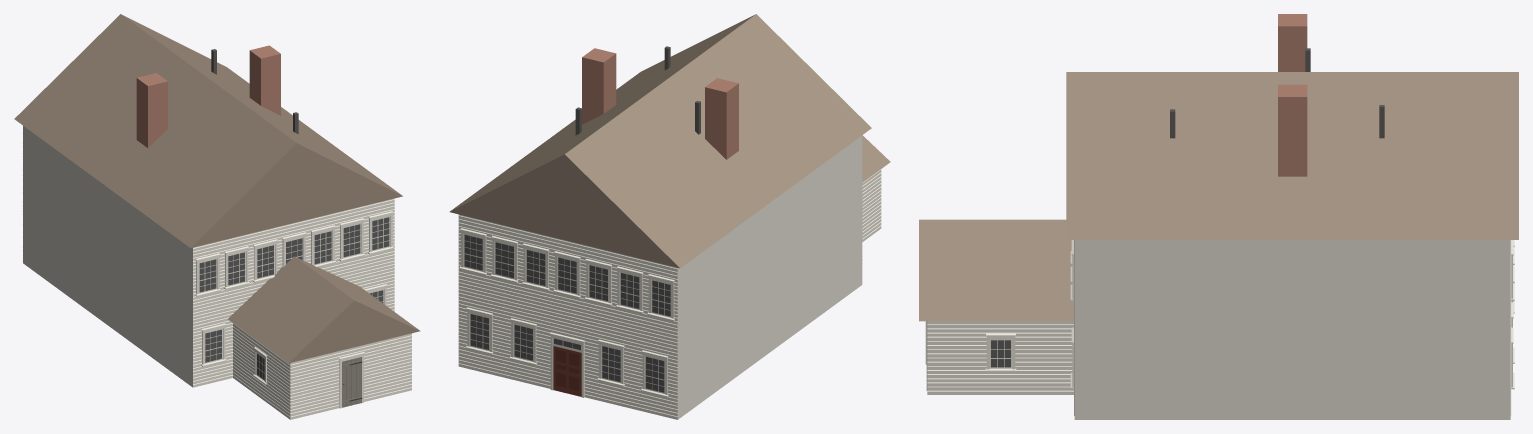
File: recon_1835_core_h3_003__inferred_1835.glb
3 views of the same model, side by side, from view 1: azimuth 30°, elevation 25°; view 2: azimuth 150°, elevation 25°; view 3: azimuth 270°, elevation 25° (orthographic). The views are drawn at different scales.
Parts seen in each view (by area): view 1: recon_1835_core_h3_003__inferred_1835; view 2: recon_1835_core_h3_003__inferred_1835; view 3: recon_1835_core_h3_003__inferred_1835.
Boxes of the visible parts, bbox=[...] form: recon_1835_core_h3_003__inferred_1835: bbox=[14, 14, 420, 419]; recon_1835_core_h3_003__inferred_1835: bbox=[449, 14, 890, 419]; recon_1835_core_h3_003__inferred_1835: bbox=[919, 14, 1518, 419].
Size of the model in its own units: 9.62 by 10.16 by 18.32.
